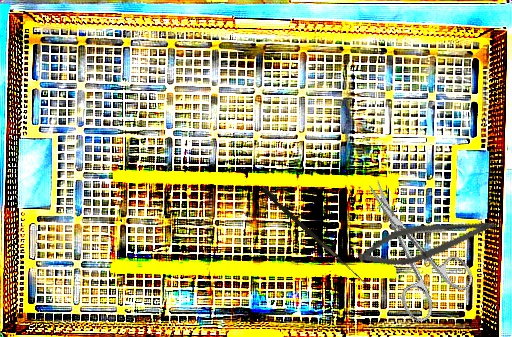Hook Surgical: (259, 186, 372, 286)
Iris Scissors: (341, 162, 482, 327)
Micro Scissor: (354, 202, 502, 278)
